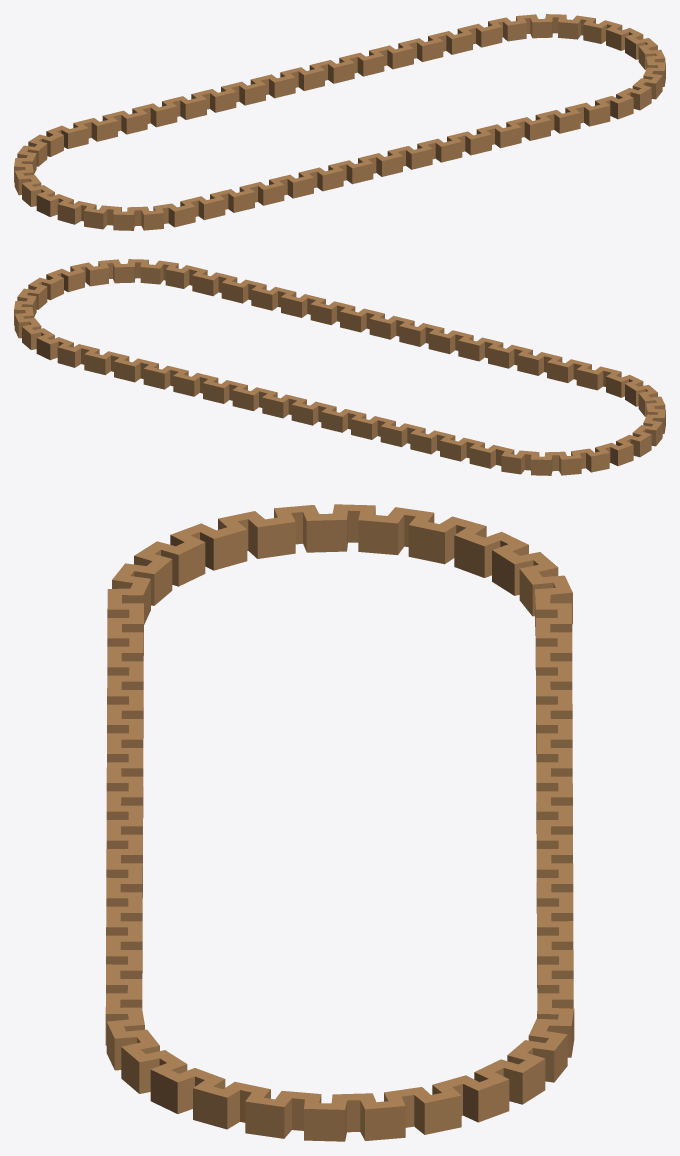
File: gear_chainV3.fbx
The picture shows the model from 3 angles, top to bottom: view 1: azimuth 30°, elevation 25°; view 2: azimuth 150°, elevation 25°; view 3: azimuth 270°, elevation 25°; orthographic projection. The views are drawn at different scales.
Visible parts, largest first — view 1: Cylinder.158; view 2: Cylinder.158; view 3: Cylinder.158.
Boxes of the visible parts, x1,y1,x2,y2 form: Cylinder.158: [14, 14, 665, 230]; Cylinder.158: [14, 259, 665, 475]; Cylinder.158: [105, 504, 574, 1141].
Size of the model in its own units: 81.5 by 1.99 by 26.63.
